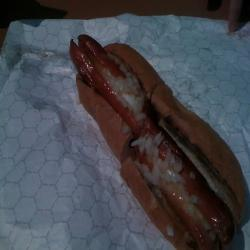hotdog: (58, 30, 248, 250)
